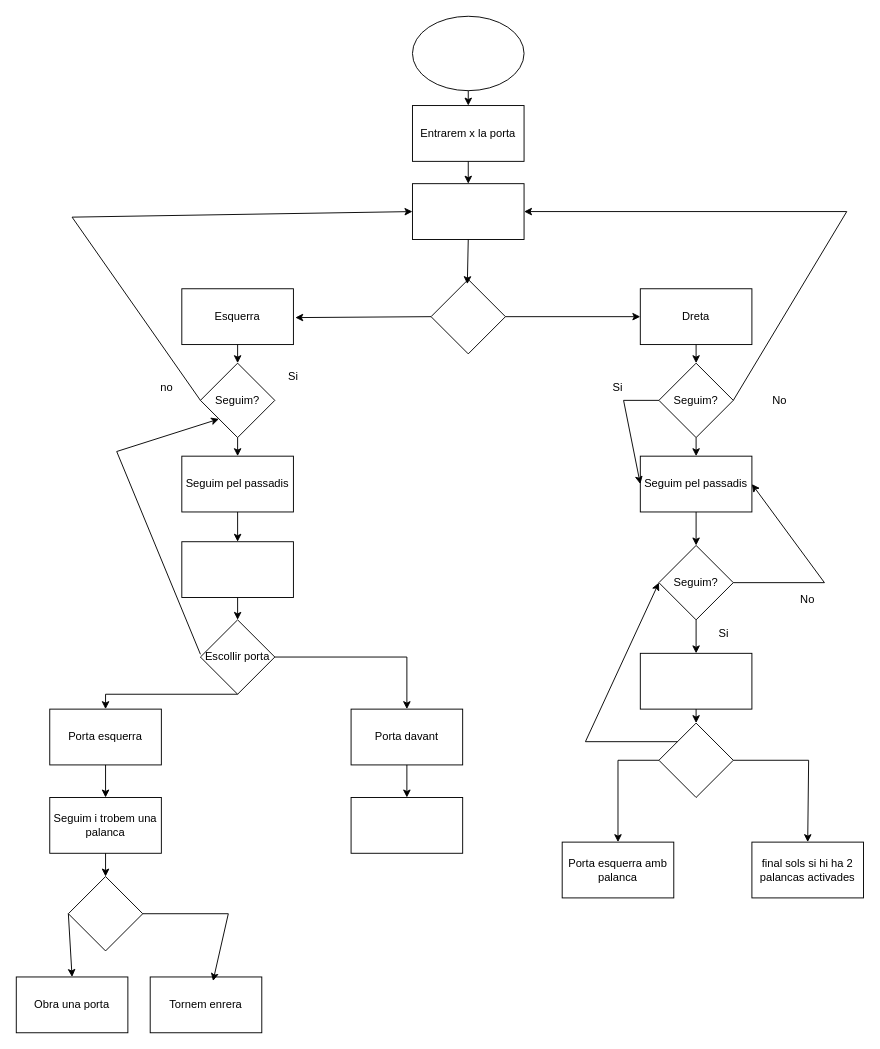
Image size: 880x1049. Some labels were removed from this diagram. Each missing label, with the centre of its shape:
"2 Camins" belongs at pixel 467 316.
"Activem palanca?" belongs at pixel 105 913.
"Entrem i morim" belongs at pixel 406 825.
"INICI" belongs at pixel 468 53.
"porta esquerra o dreta?" belongs at pixel 695 759.
"Seguim pel passadis i veiem dos portes" belongs at pixel 695 680.
"Veiem dues portes" belongs at pixel 237 569.
"Visualitzem dues portes" belongs at pixel 468 211.
